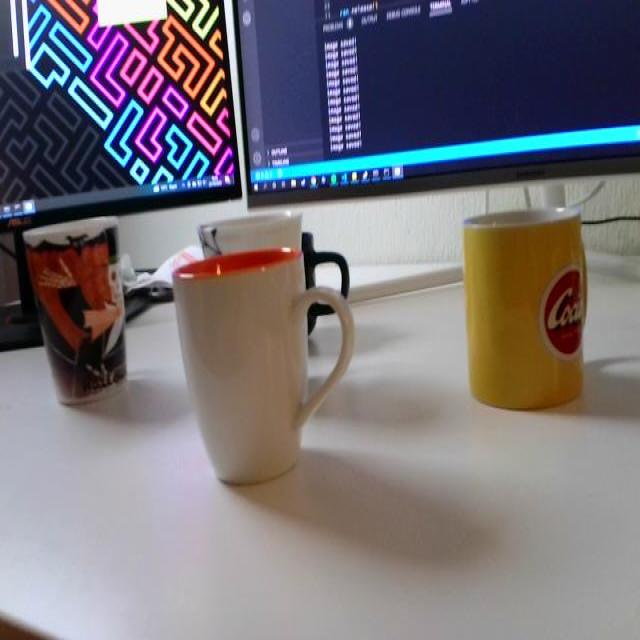cup: (170, 253, 366, 495), (454, 198, 596, 420), (16, 198, 135, 404), (190, 196, 318, 272), (304, 228, 350, 288)
